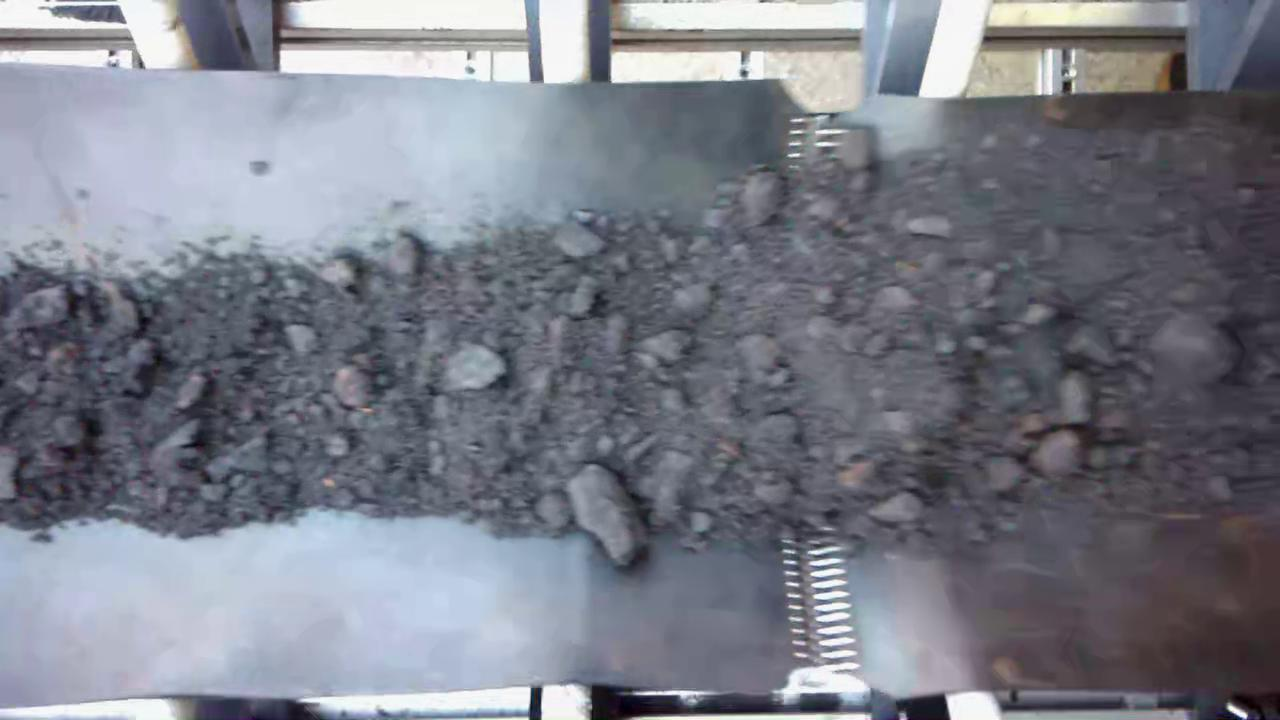conveyor: (3, 100, 1280, 688)
